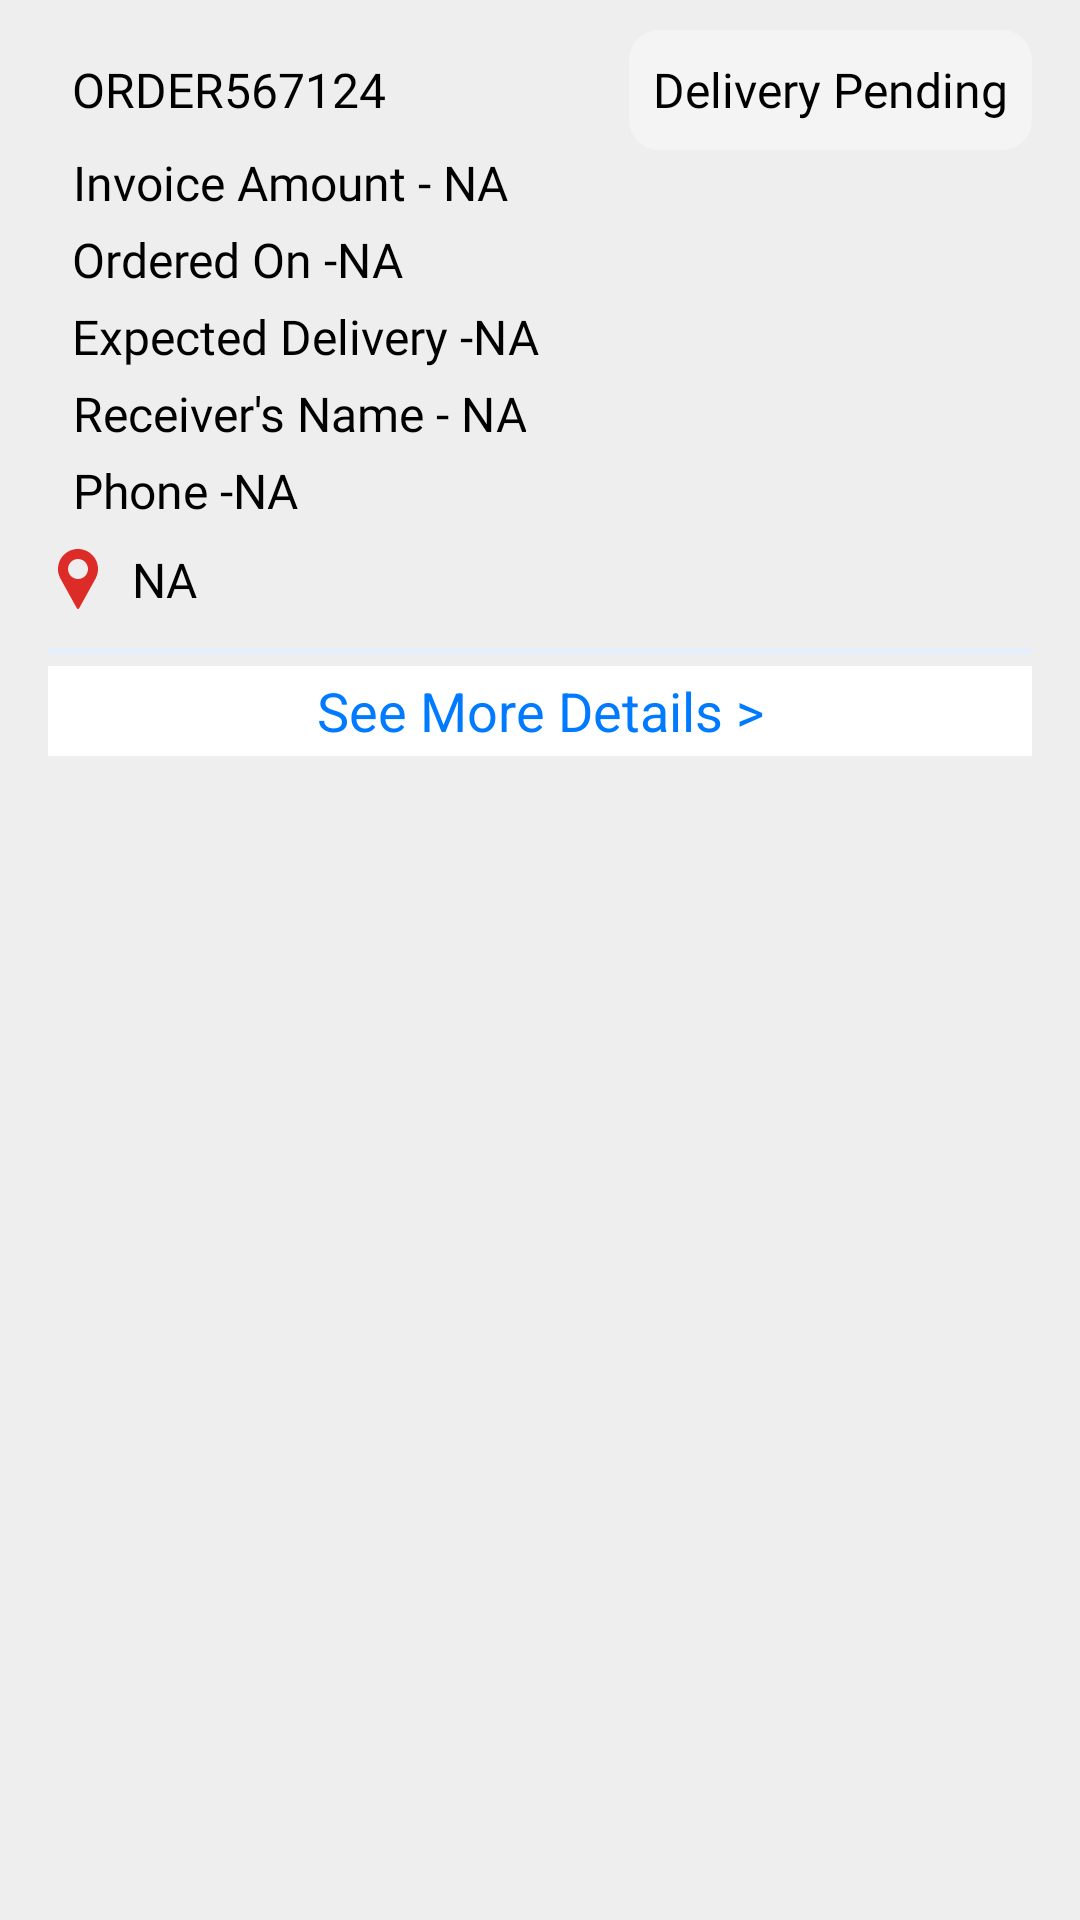

Where to tap for icons on this 1080*1920 app screen, as point (x, y):
destination pin: point (78, 579)
